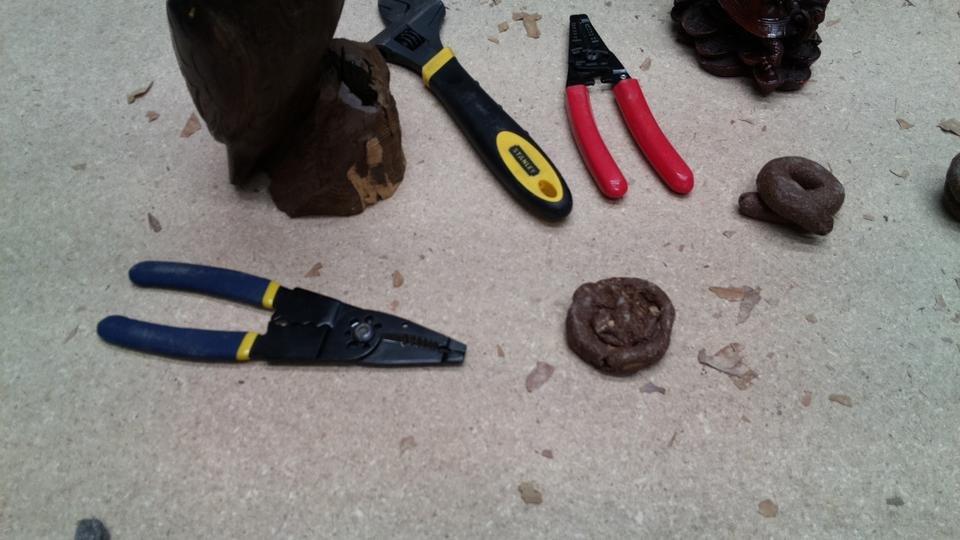poop: (561, 268, 678, 379), (735, 154, 849, 243), (941, 149, 960, 230)
